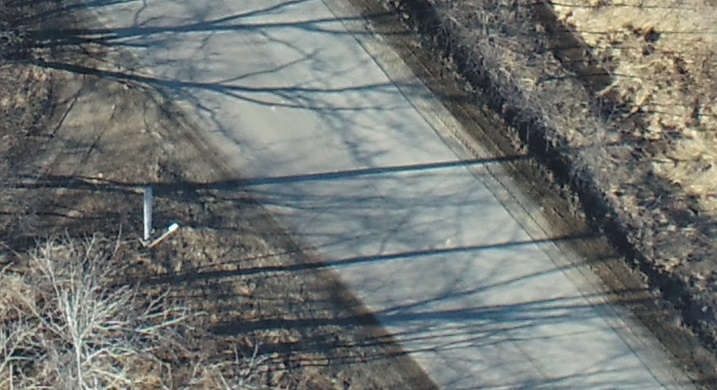opora: (134, 171, 223, 252)
